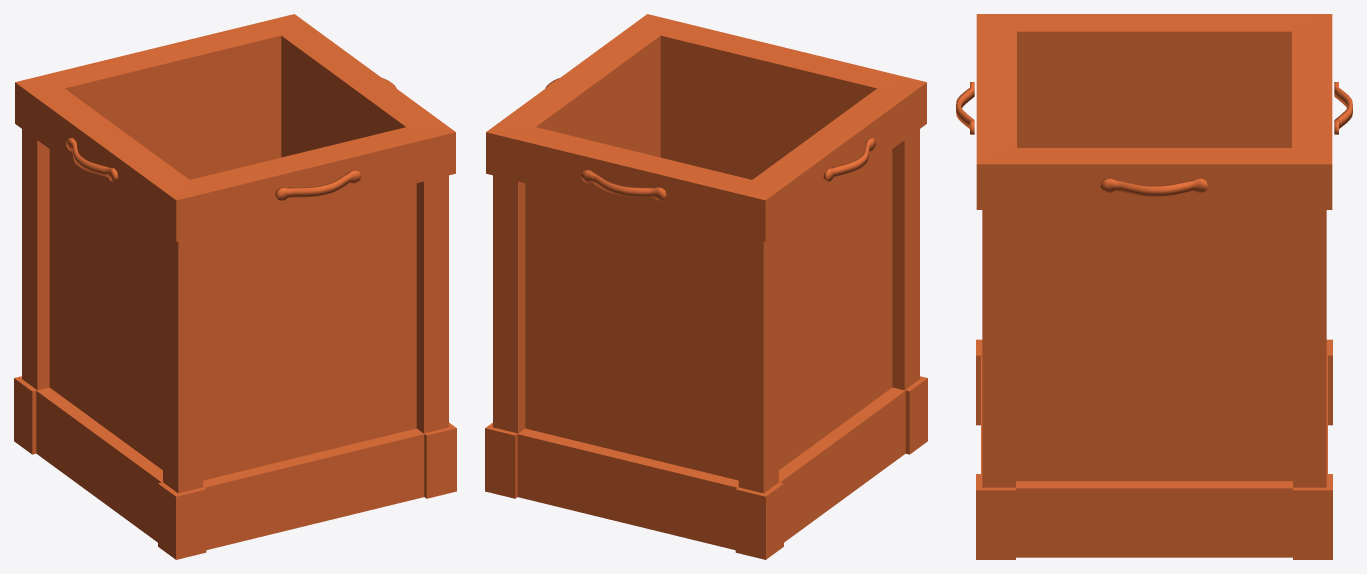
File: SM_TrashBin.fbx
3 renders of one model, left to right at view 1: azimuth 30°, elevation 25°; view 2: azimuth 150°, elevation 25°; view 3: azimuth 270°, elevation 25°, orthographic. The views are drawn at different scales.
Visible parts, largest first — view 1: Trash_high.001; view 2: Trash_high.001; view 3: Trash_high.001.
Part boxes in pixels (box(x1,y1,x2,y2)): Trash_high.001: box(14, 14, 456, 559); Trash_high.001: box(485, 14, 927, 559); Trash_high.001: box(956, 14, 1352, 559).
Size of the model in its own units: 253 by 278 by 253.
